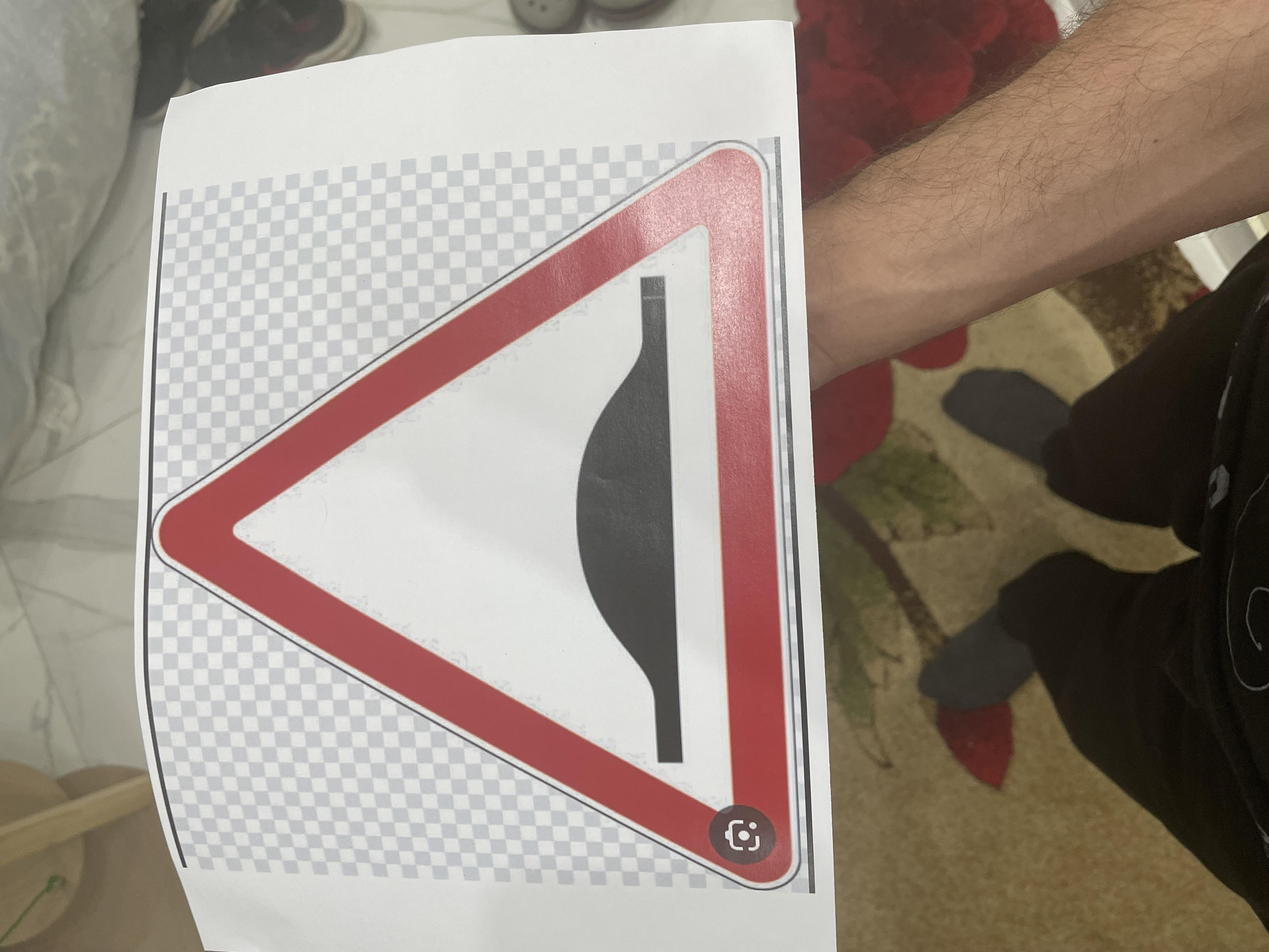Hump: (79, 116, 1088, 602)
